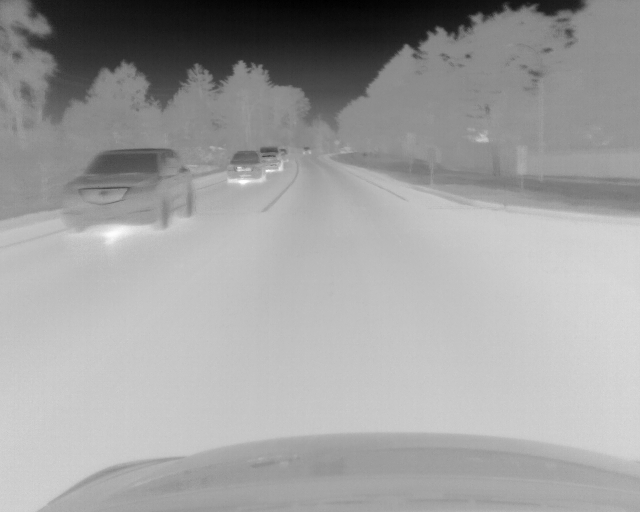car: (61, 147, 195, 233), (227, 149, 266, 185), (258, 147, 283, 171), (279, 149, 290, 163), (303, 146, 311, 155)
